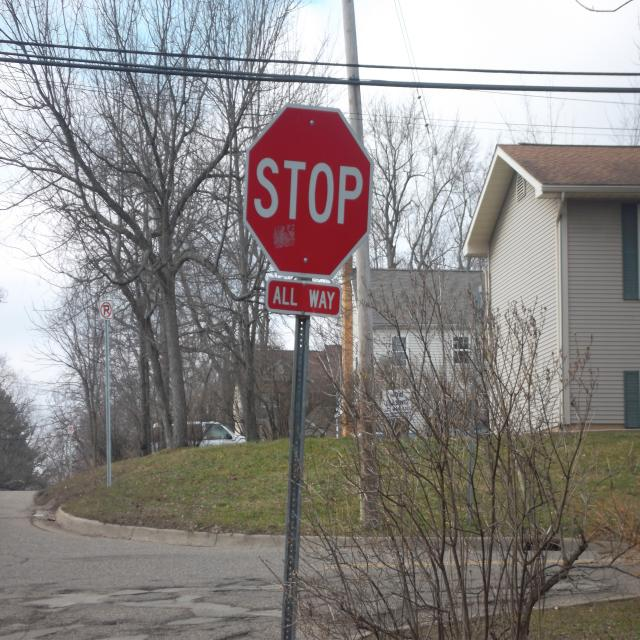regulatory: (98, 299, 113, 320)
stop: (240, 100, 374, 277)
